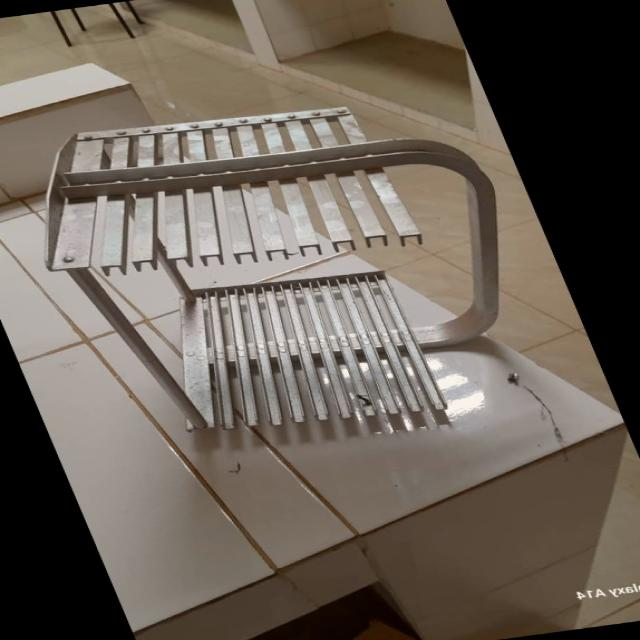Plate Rack: (0, 76, 588, 467)
